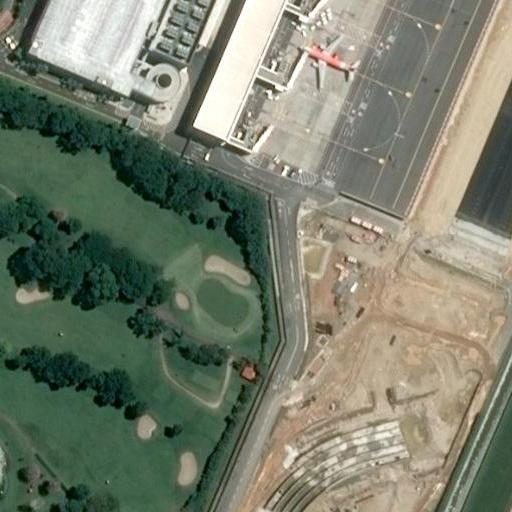Aircraft: (298, 32, 359, 87)
